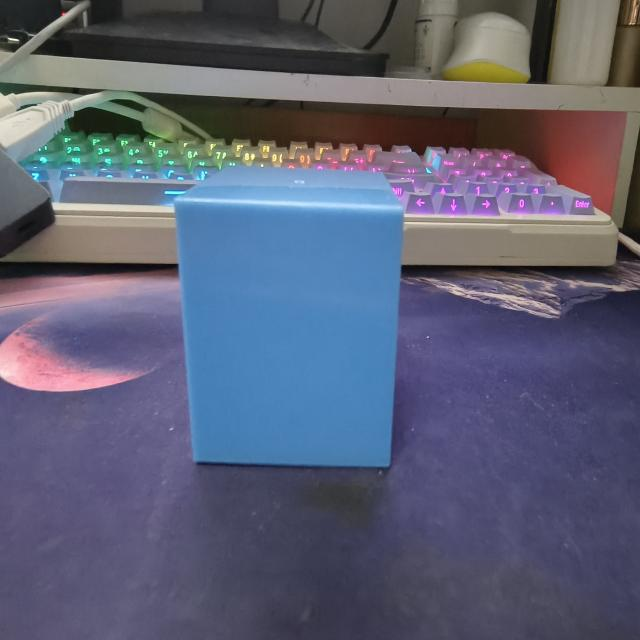blue: (169, 166, 405, 473)
